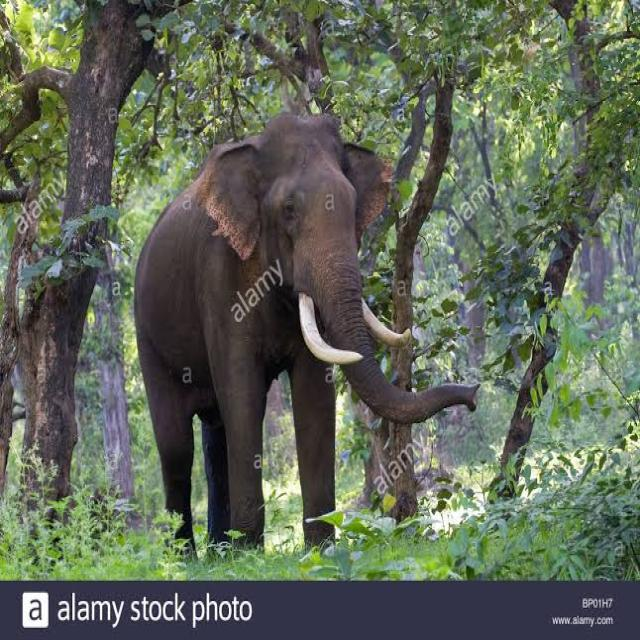Elephant: (132, 111, 479, 559)
